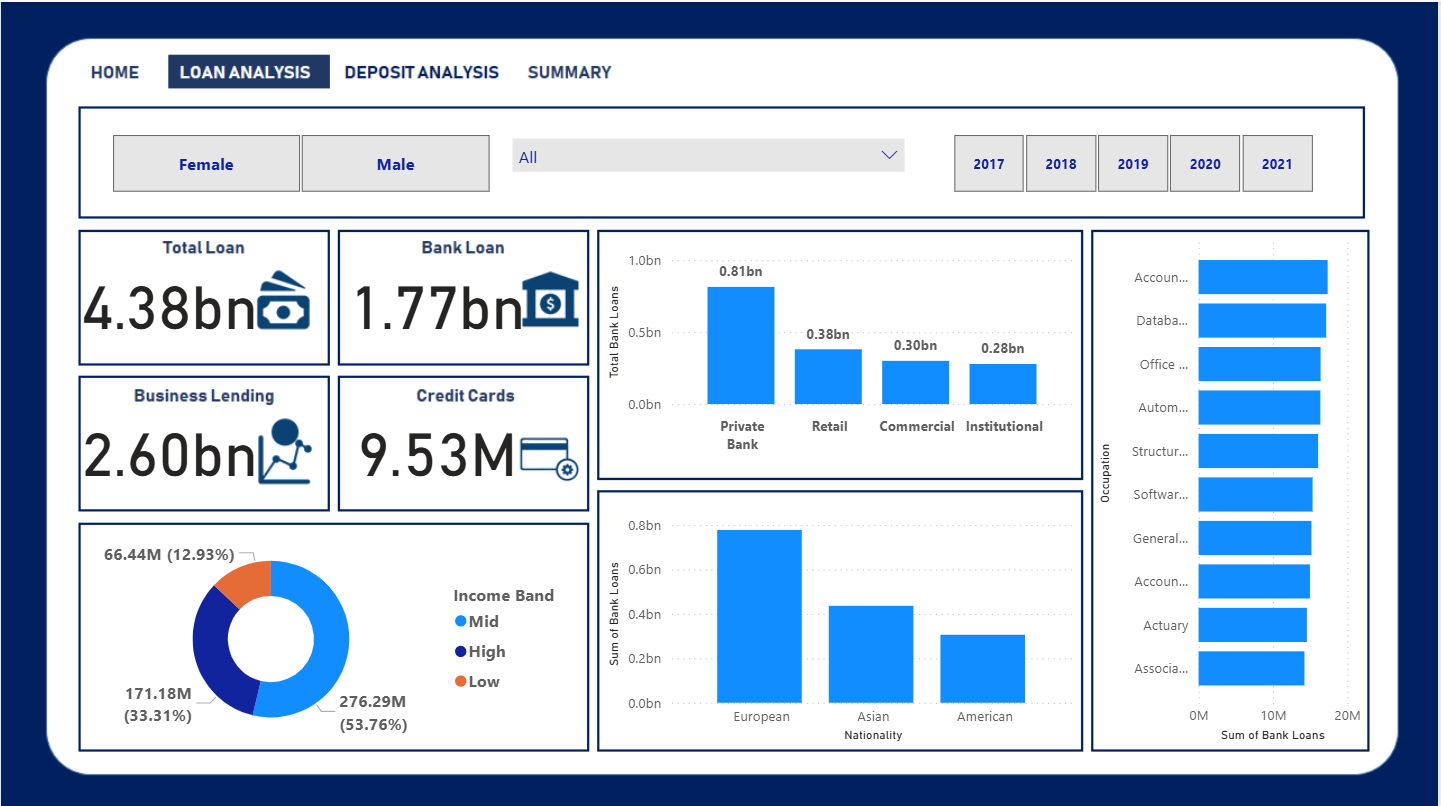

The dashboard page shown, as its layout file describes it:
{"tool":"powerbi","page":{"name":"Loan Analysis","canvas":[1280,720],"ordinal":1},"visuals":[{"type":"card","fields":{"Values":["banking-clients.Total Loan"]},"box":[62,229.4,176,72.1],"z":0},{"type":"card","fields":{"Values":["Sum(banking-clients.Bank Loans)"]},"box":[300.1,229.4,176,72.1],"z":1000},{"type":"card","fields":{"Values":["Sum(banking-clients.Business Lending)"]},"box":[62,360.7,176,72.1],"z":2000},{"type":"card","fields":{"Values":["Sum(banking-clients.Credit Card Balance)"]},"box":[300.1,360.7,176,72.1],"z":3000},{"type":"actionButton","box":[61.5,48.3,78.4,29],"z":4000},{"type":"actionButton","box":[300.4,48.3,146,29],"z":5000},{"type":"actionButton","box":[463.3,48.3,86.9,29],"z":6000},{"type":"donutChart","fields":{"Y":["Sum(banking-clients.Estimated Income)"],"Category":["banking-clients.Income Band"]},"box":[73.6,470.3,447.3,193.3],"z":7000},{"type":"columnChart","fields":{"Y":["Sum(banking-clients.Bank Loans)"],"Category":["banking-clients.Nationality"]},"box":[535.3,451.6,425.6,212.1],"z":8000},{"type":"clusteredColumnChart","fields":{"Category":["banking-clients.BRId"],"Y":["Sum(banking-clients.Bank Loans)"]},"box":[535.3,216.4,425.6,193.3],"z":9000},{"type":"barChart","fields":{"Category":["banking-clients.Occupation"],"Y":["Sum(banking-clients.Bank Loans)"]},"box":[972.8,202,243.2,462.2],"z":10000},{"type":"slicer","fields":{"Values":["banking-clients.Year"]},"box":[822.4,111.1,369.3,64.9],"z":11000},{"type":"slicer","fields":{"Values":["banking-clients.GenderId"]},"box":[73.6,111.1,385.2,64.9],"z":12000},{"type":"slicer","fields":{"Values":["banking-clients.IAId"]},"box":[445.8,111.1,369.3,64.9],"z":13000}]}

Visuals, with their boxes in screenshot pixels (x1, y1, x2, y2), scaled from the page's 1280x720 canvas onto the 1441x806 screenshot:
card - banking-clients.Total Loan: <bbox>70, 257, 268, 338</bbox>
card - Sum(banking-clients.Bank Loans): <bbox>338, 257, 536, 338</bbox>
card - Sum(banking-clients.Business Lending): <bbox>70, 404, 268, 484</bbox>
card - Sum(banking-clients.Credit Card Balance): <bbox>338, 404, 536, 484</bbox>
actionButton: <bbox>69, 54, 157, 87</bbox>
actionButton: <bbox>338, 54, 503, 87</bbox>
actionButton: <bbox>522, 54, 619, 87</bbox>
donutChart - Sum(banking-clients.Estimated Income) x banking-clients.Income Band: <bbox>83, 526, 586, 743</bbox>
columnChart - Sum(banking-clients.Bank Loans) x banking-clients.Nationality: <bbox>603, 506, 1082, 743</bbox>
clusteredColumnChart - banking-clients.BRId x Sum(banking-clients.Bank Loans): <bbox>603, 242, 1082, 459</bbox>
barChart - banking-clients.Occupation x Sum(banking-clients.Bank Loans): <bbox>1095, 226, 1369, 744</bbox>
slicer - banking-clients.Year: <bbox>926, 124, 1342, 197</bbox>
slicer - banking-clients.GenderId: <bbox>83, 124, 517, 197</bbox>
slicer - banking-clients.IAId: <bbox>502, 124, 918, 197</bbox>
